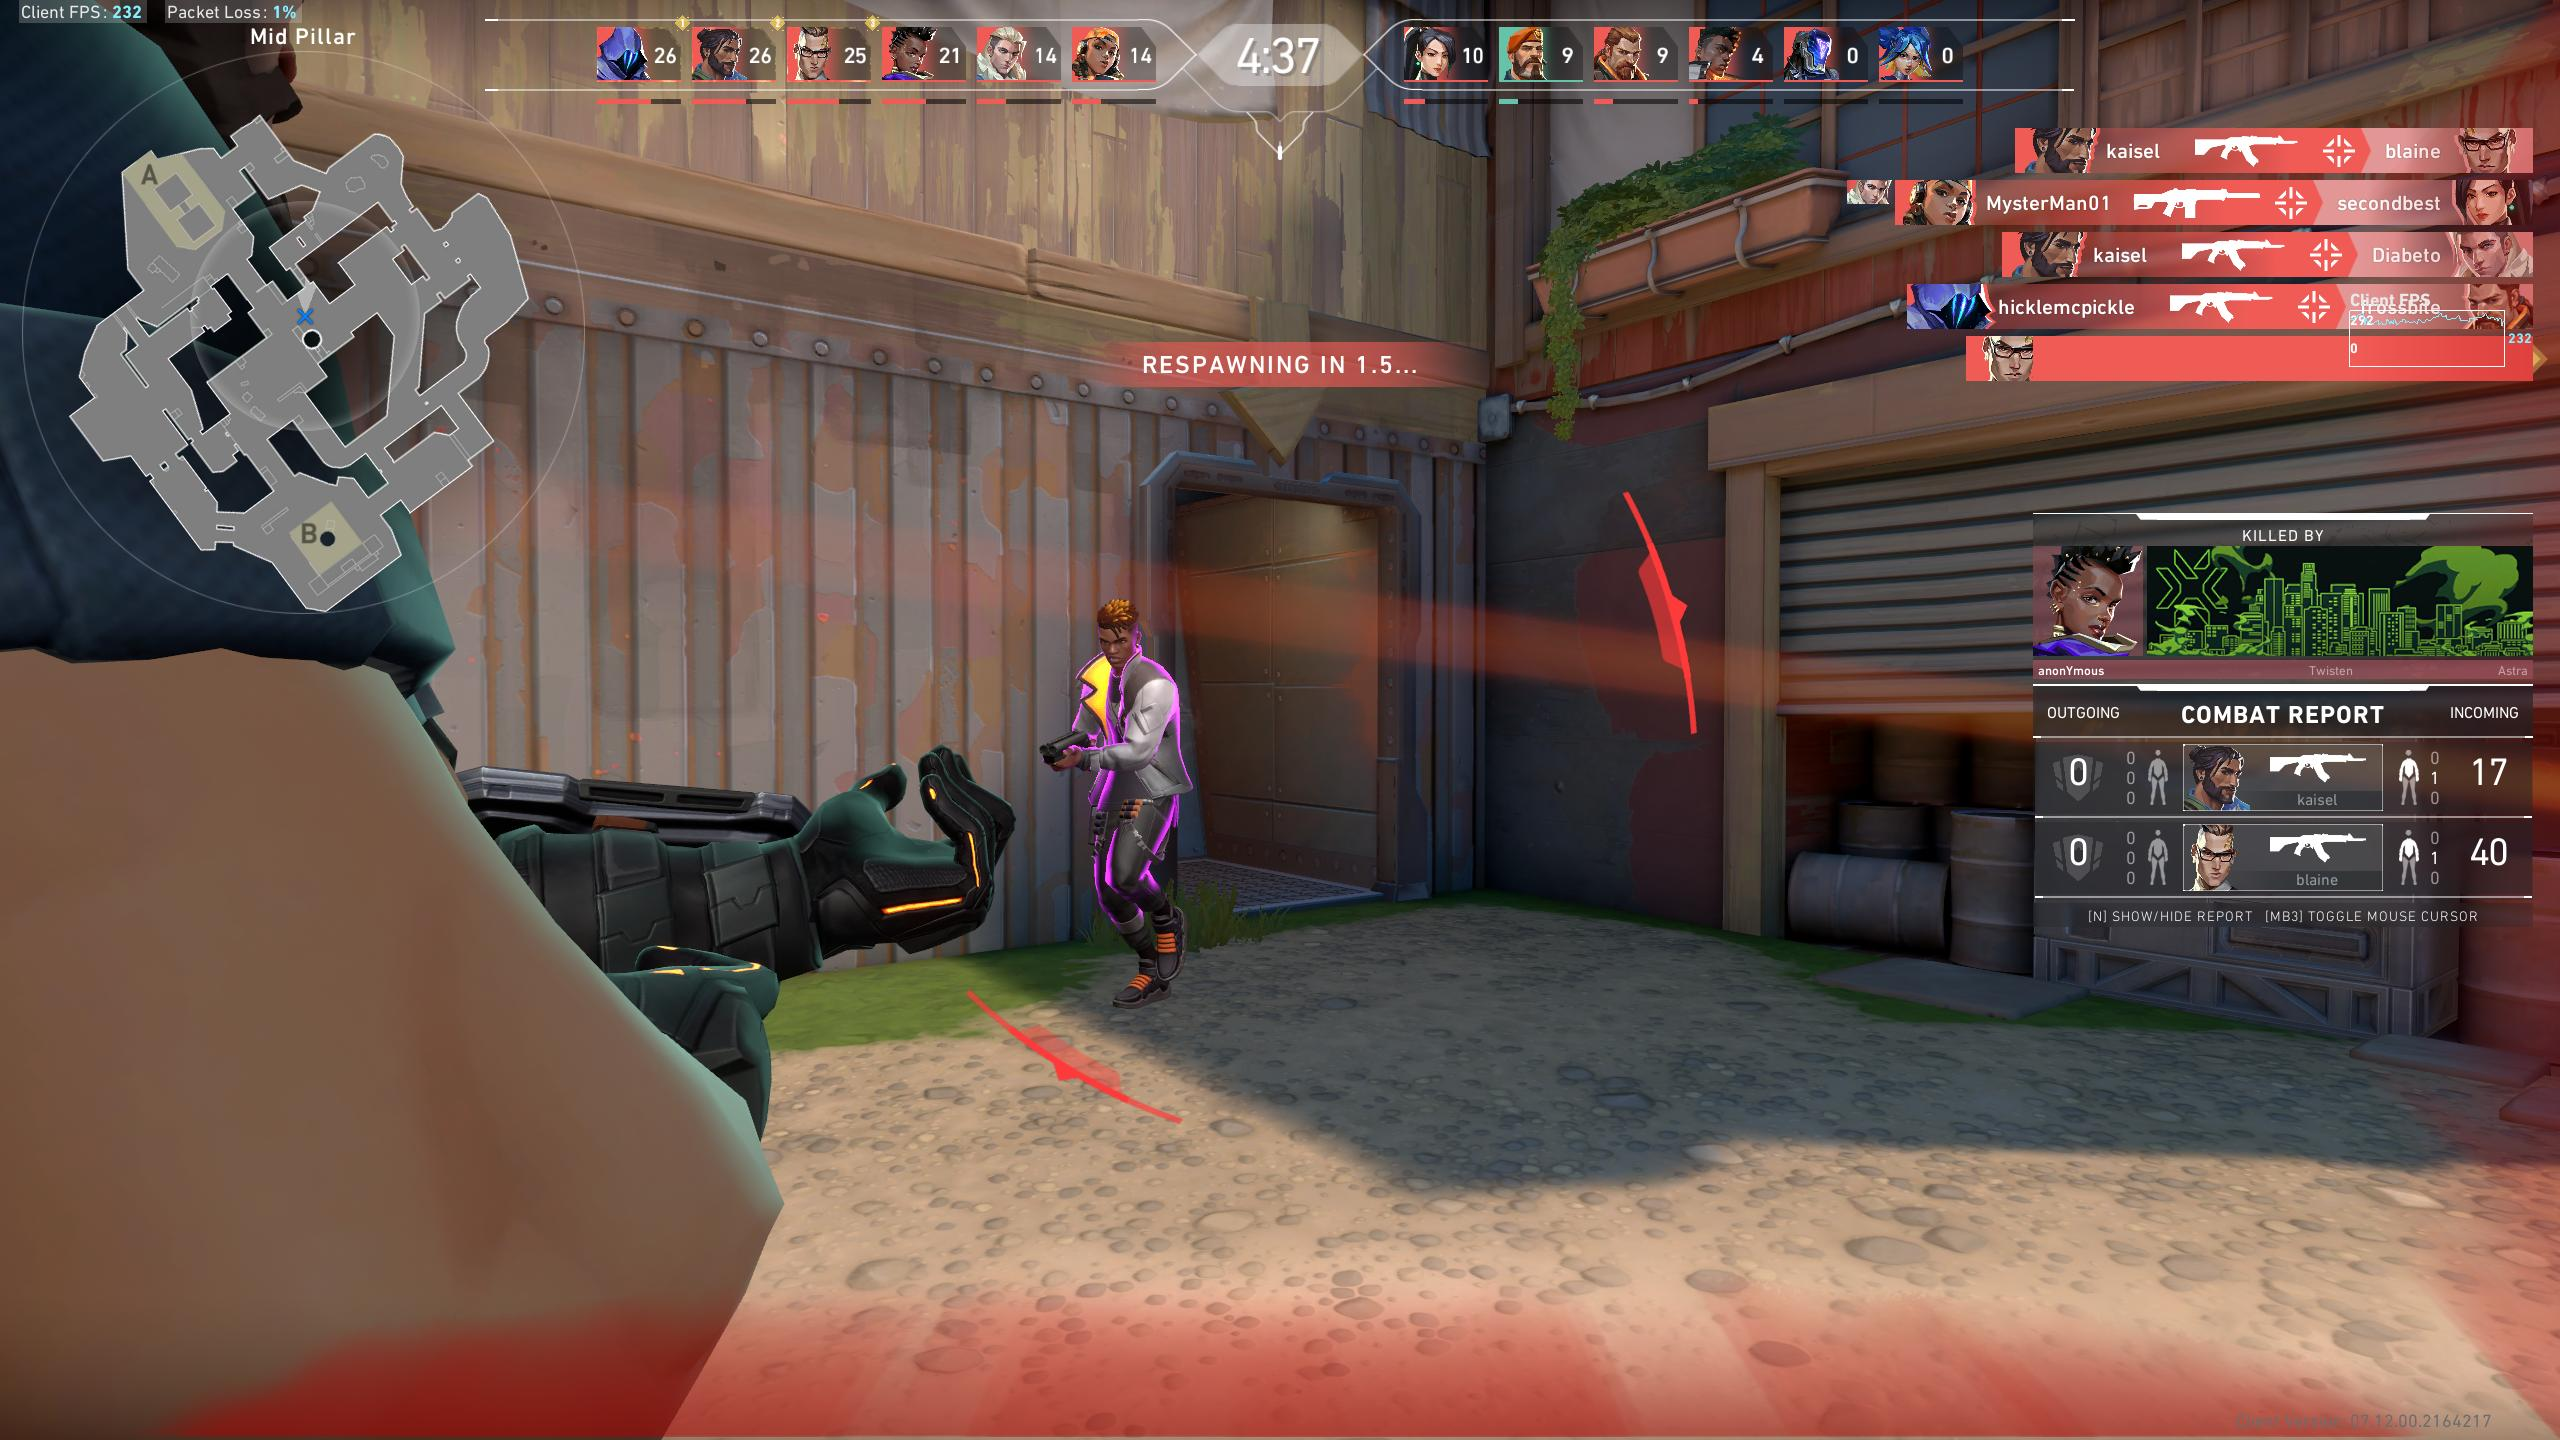enemyBody: (1078, 668, 1185, 847)
enemyHead: (1095, 608, 1146, 661)
